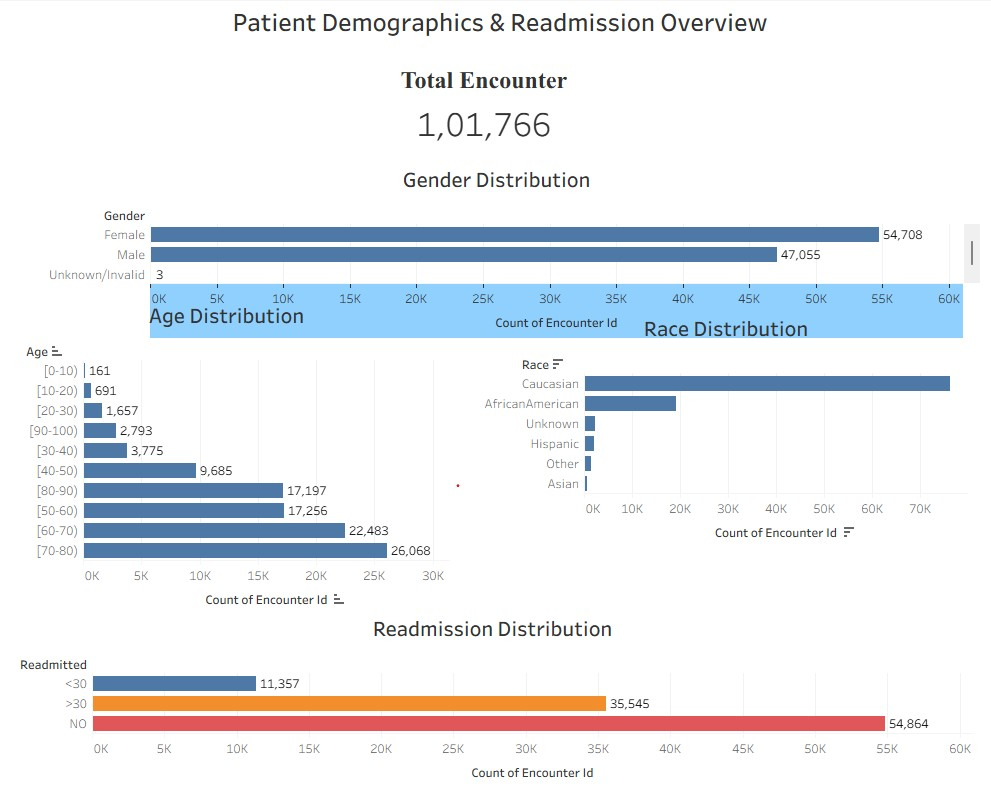

Layout of this report page (visuals, bound fields, positions):
{"tool":"tableau","page":{"name":"Patient Demographics & Readmission Overview","canvas":[1000,800],"ordinal":2},"visuals":[{"type":"title","box":[0,0,1000,41]},{"type":"worksheet","title":"KPI-Total Encounters","mark":"Automatic","box":[367,62,234,79]},{"type":"worksheet","title":"Gender Distribution","mark":"Automatic","rows":["gender"],"cols":["encounter_id"],"box":[30,160,950,177]},{"type":"worksheet","title":"Age Distribution","mark":"Automatic","rows":["age"],"cols":["encounter_id"],"box":[3,296,447,319]},{"type":"worksheet","title":"Race distribution","mark":"Automatic","rows":["race"],"cols":["encounter_id"],"box":[484,309,484,314]},{"type":"worksheet","title":"Readmission Distribution","mark":"Automatic","rows":["readmitted"],"cols":["encounter_id"],"box":[12,609,961,181]}]}

Visuals, with their boxes in screenshot pixels (x1, y1, x2, y2), scaled from the page's 1000x800 canvas onto the 991x798 screenshot:
title: {"x1": 0, "y1": 0, "x2": 990, "y2": 41}
"KPI-Total Encounters" worksheet: {"x1": 364, "y1": 62, "x2": 596, "y2": 141}
"Gender Distribution" worksheet: {"x1": 30, "y1": 160, "x2": 971, "y2": 336}
"Age Distribution" worksheet: {"x1": 3, "y1": 295, "x2": 446, "y2": 613}
"Race distribution" worksheet: {"x1": 480, "y1": 308, "x2": 959, "y2": 621}
"Readmission Distribution" worksheet: {"x1": 12, "y1": 607, "x2": 964, "y2": 788}
